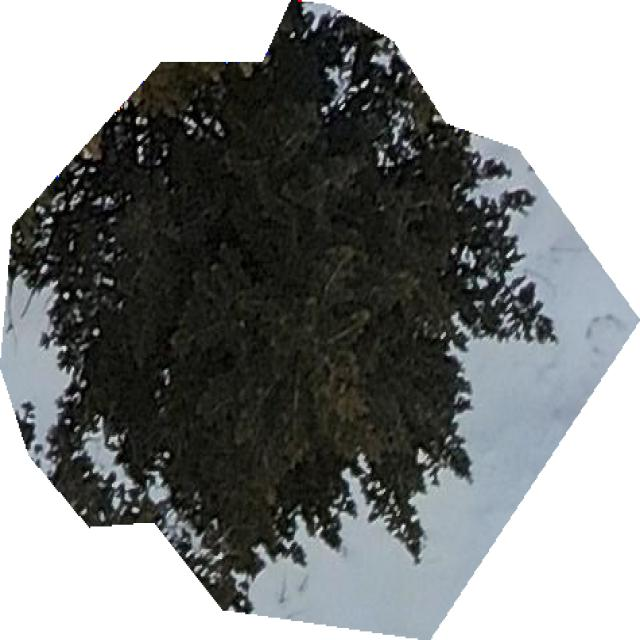spruce: (3, 0, 637, 638)
